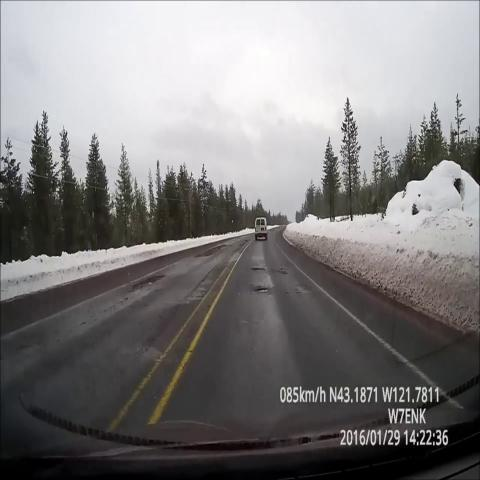pothole: (126, 270, 168, 308), (194, 242, 229, 273), (250, 278, 272, 301), (246, 257, 269, 278)
